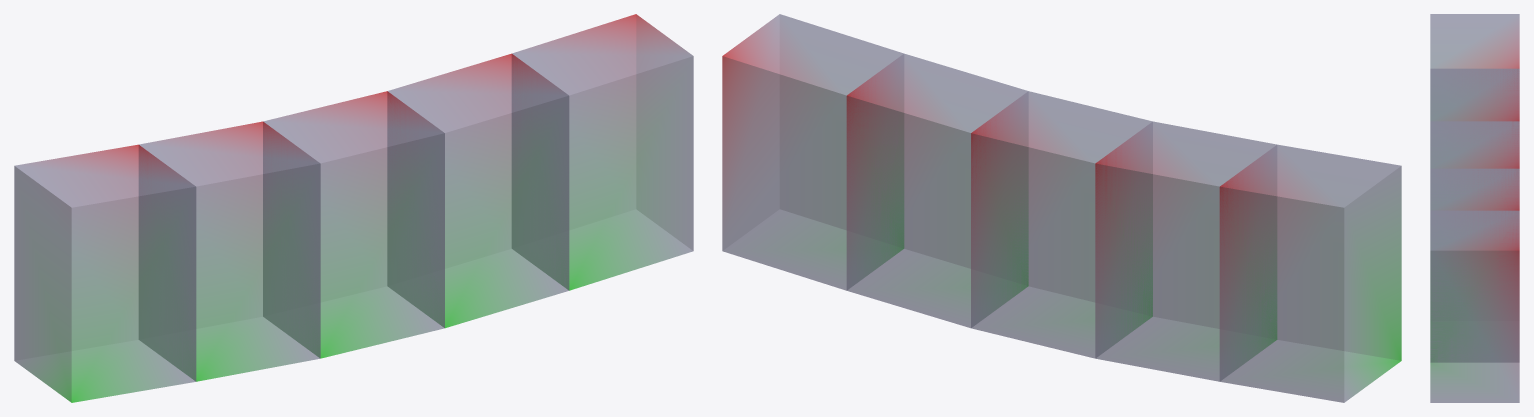
File: beamtest.glb
3 views of the same model, side by side, from view 1: azimuth 30°, elevation 25°; view 2: azimuth 150°, elevation 25°; view 3: azimuth 270°, elevation 25° (orthographic). The views are drawn at different scales.
Size of the model in its own units: 5 by 1.63 by 0.8.
